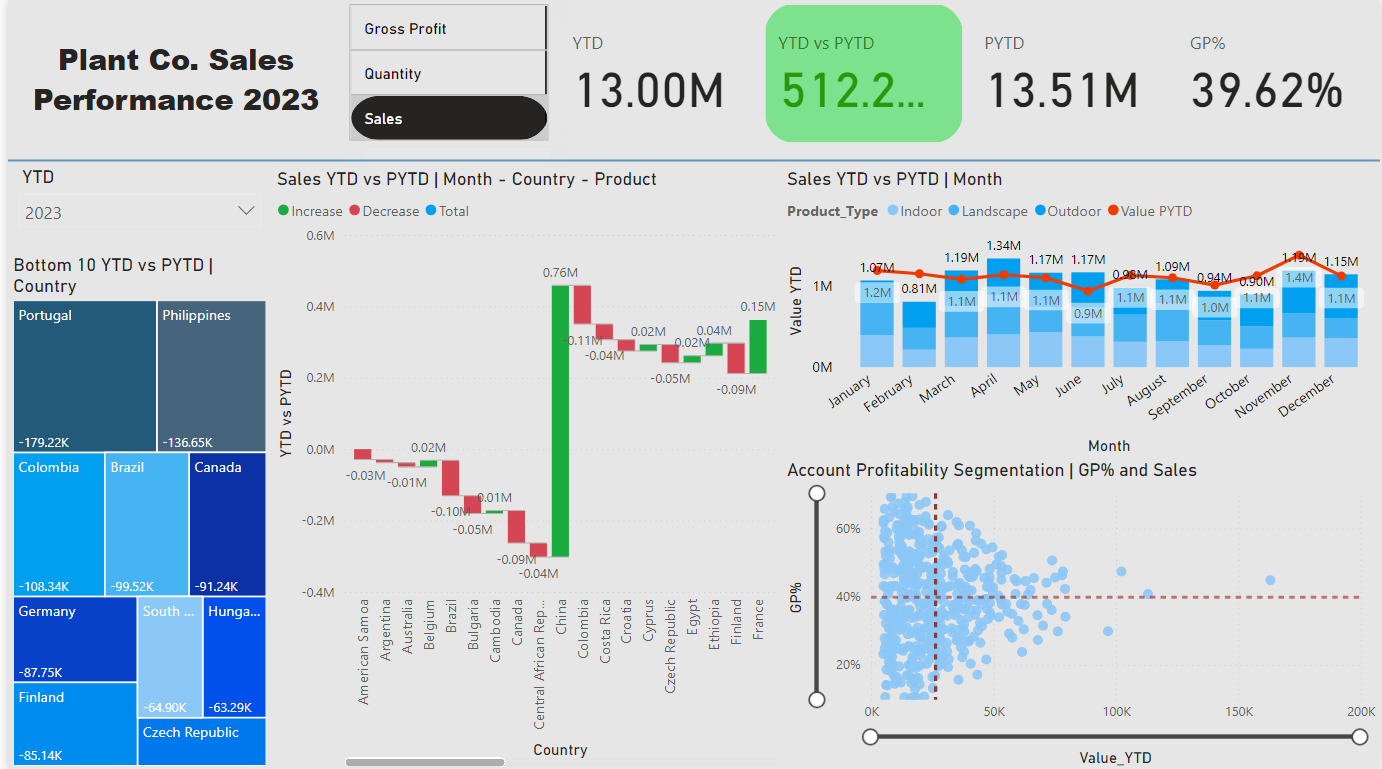

What the dashboard file says about the page in this screenshot:
{"tool":"powerbi","page":{"name":"Page 1","canvas":[1280,720],"ordinal":0},"visuals":[{"type":"cardVisual","fields":{"Data":["Measure.S_YTD","Measure.YTD vs PYTD","Measure.S_PYTD","Measure.GP%"]},"box":[509.1,0,770.9,139.9],"z":0},{"type":"advancedSlicerVisual","fields":{"Values":["Slc_Values.Values"]},"box":[313.7,0,195.4,139.9],"z":1000},{"type":"slicer","fields":{"Values":["Dim_Date.Date.Variation.Date Hierarchy.Year"]},"box":[0,150.8,246.1,76],"z":2000},{"type":"treemap","title":"Bottom 10 YTD vs PYTD | Country","fields":{"Values":["Measure.YTD vs PYTD"],"Group":["Dim_Accounts.Country"]},"box":[0,237.7,246.1,482.6],"z":3000},{"type":"waterfallChart","fields":{"Y":["Measure.YTD vs PYTD"],"Category":["Dim_Date.Date.Variation.Date Hierarchy.Month","Dim_Accounts.Country","Dim_Product.Product_Type","Dim_Product.Product_Name"]},"box":[246.1,156.8,475.3,563.4],"z":4000},{"type":"lineStackedColumnComboChart","fields":{"Y":["Measure.S_YTD"],"Y2":["Measure.S_PYTD"],"Category":["Dim_Date.Date.Variation.Date Hierarchy.Quarter","Dim_Date.Date.Variation.Date Hierarchy.Month"],"Series":["Dim_Product.Product_Type"]},"box":[721.5,156.8,558.6,272.7],"z":5000},{"type":"shape","box":[0,144.8,1280,12.1],"z":6000},{"type":"scatterChart","fields":{"Y":["Measure.GP%"],"X":["Measure.S_YTD"],"Category":["Dim_Accounts.Account"]},"box":[721.5,429.5,558.6,290.8],"z":7000},{"type":"card","fields":{"Values":["Measure._Repor title"]},"box":[0,0,313.7,139.9],"z":8000}]}

Visuals, with their boxes in screenshot pixels (x1, y1, x2, y2), scaled from the page's 1280x720 canvas onto the 1382x769 screenshot:
cardVisual - Measure.S_YTD x Measure.YTD vs PYTD: (x1=550, y1=0, x2=1381, y2=149)
advancedSlicerVisual - Slc_Values.Values: (x1=339, y1=0, x2=550, y2=149)
slicer - Dim_Date.Date.Variation.Date Hierarchy.Year: (x1=0, y1=161, x2=266, y2=242)
"Bottom 10 YTD vs PYTD | Country" treemap: (x1=0, y1=254, x2=266, y2=768)
waterfallChart - Measure.YTD vs PYTD x Dim_Date.Date.Variation.Date Hierarchy.Month: (x1=266, y1=167, x2=779, y2=768)
lineStackedColumnComboChart - Measure.S_YTD x Measure.S_PYTD: (x1=779, y1=167, x2=1381, y2=459)
shape: (x1=0, y1=155, x2=1381, y2=168)
scatterChart - Measure.GP% x Measure.S_YTD: (x1=779, y1=459, x2=1381, y2=768)
card - Measure._Repor title: (x1=0, y1=0, x2=339, y2=149)
